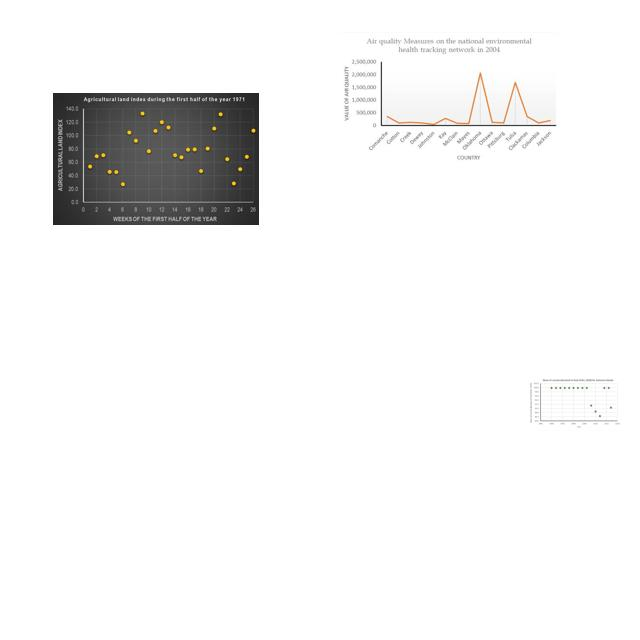Graph: (339, 32, 559, 164), (53, 93, 259, 225), (528, 376, 622, 431)
